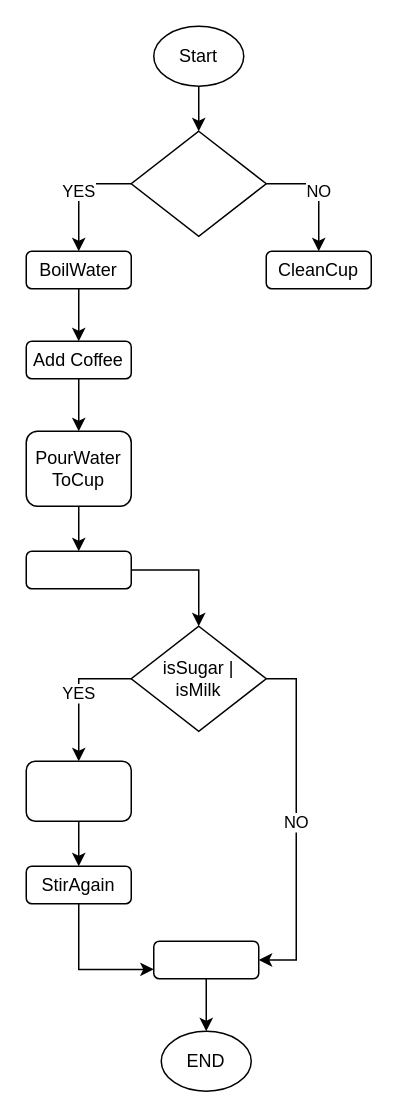
Image size: 398x1118. Some labels were removed from this diagram. The shapes that lost their labels are listed below. From the top down, each one's centre as x and y in pixels, then its label:
the point at 198,183: CupIsClean?
the point at 78,569: Stir Coffee
the point at 78,790: Add milk | sugar
the point at 205,959: Drink Coffee
